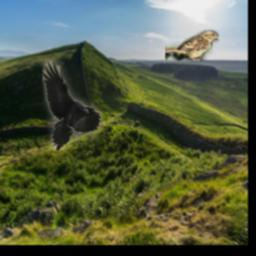Crow: (43, 60, 103, 151)
Sparrow: (166, 31, 220, 62)
